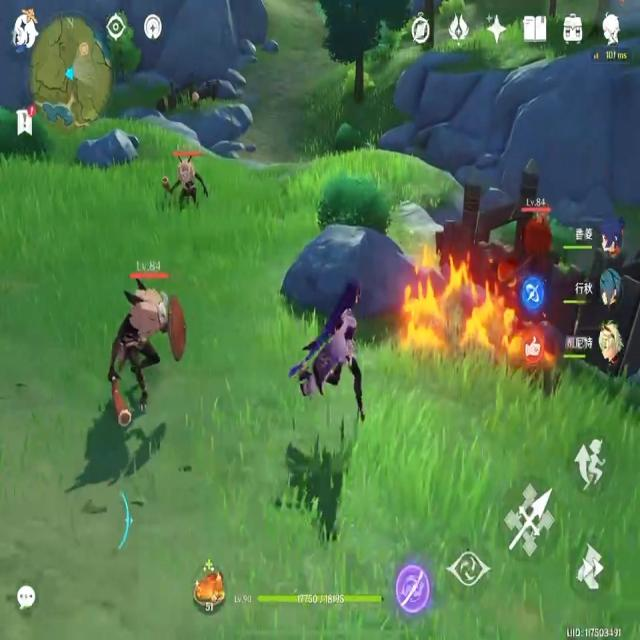genshin-hilichurls: (108, 256, 189, 434), (503, 194, 556, 278), (168, 142, 206, 213), (191, 88, 202, 111)
